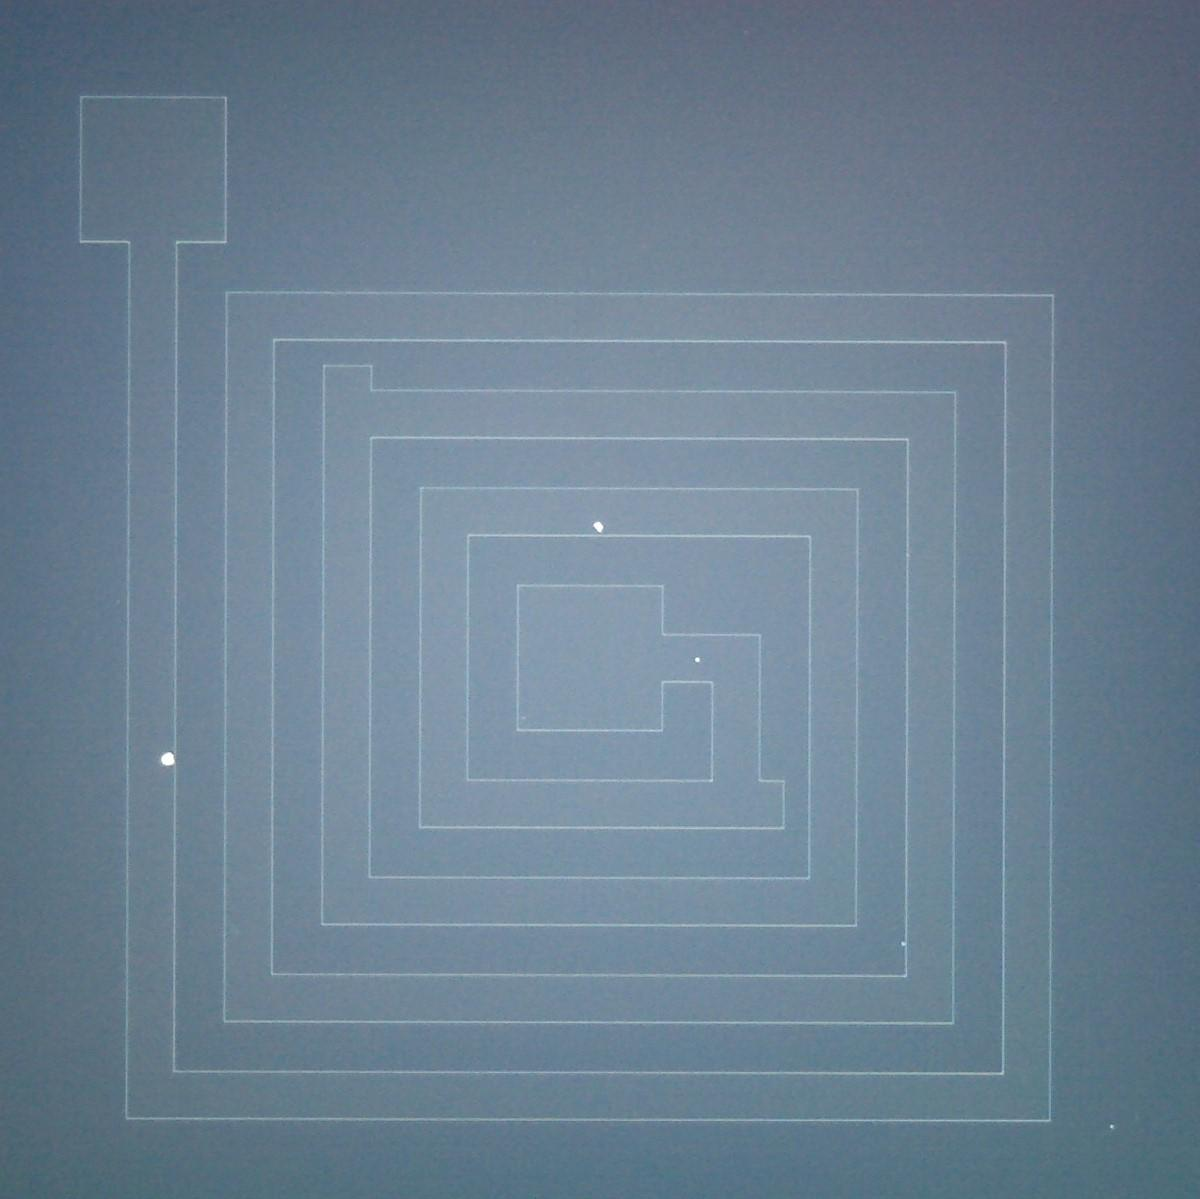B_point: (158, 751, 178, 769), (592, 520, 606, 536)
project: (301, 349, 394, 461), (687, 758, 795, 839)
s_point: (518, 711, 531, 726), (898, 939, 908, 950), (693, 654, 702, 665), (1108, 1122, 1117, 1132)
